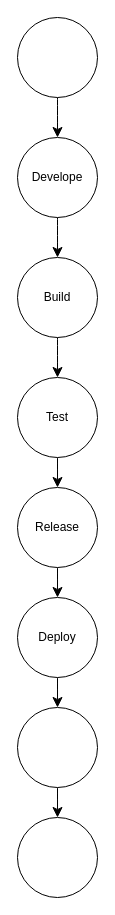
Image size: 115x915. Some labels were removed from this diagram. Here are the shapes that lost their labels. From the top down, the centre of each, then its label:
At point (57, 57): "Plan".
At point (57, 747): "Operate".
